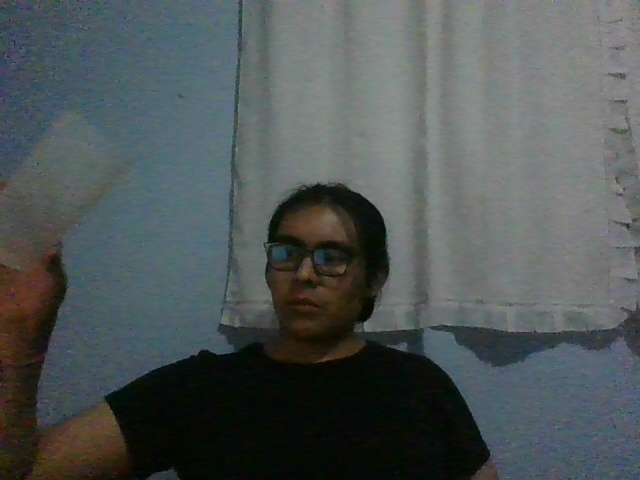vaso: (1, 110, 138, 272)
